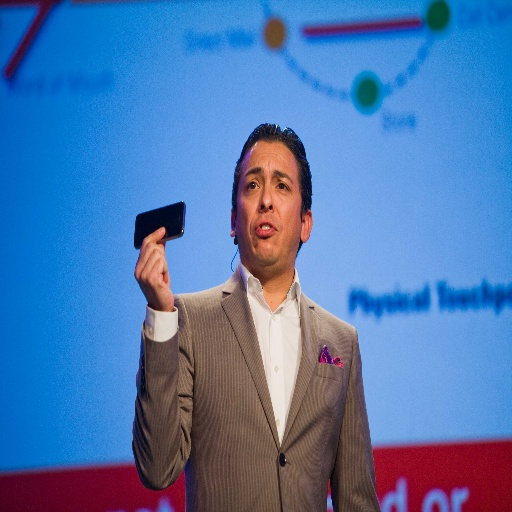hand: (133, 223, 174, 311)
